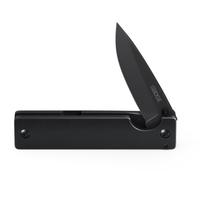knife: (10, 8, 170, 153), (108, 13, 186, 165)
